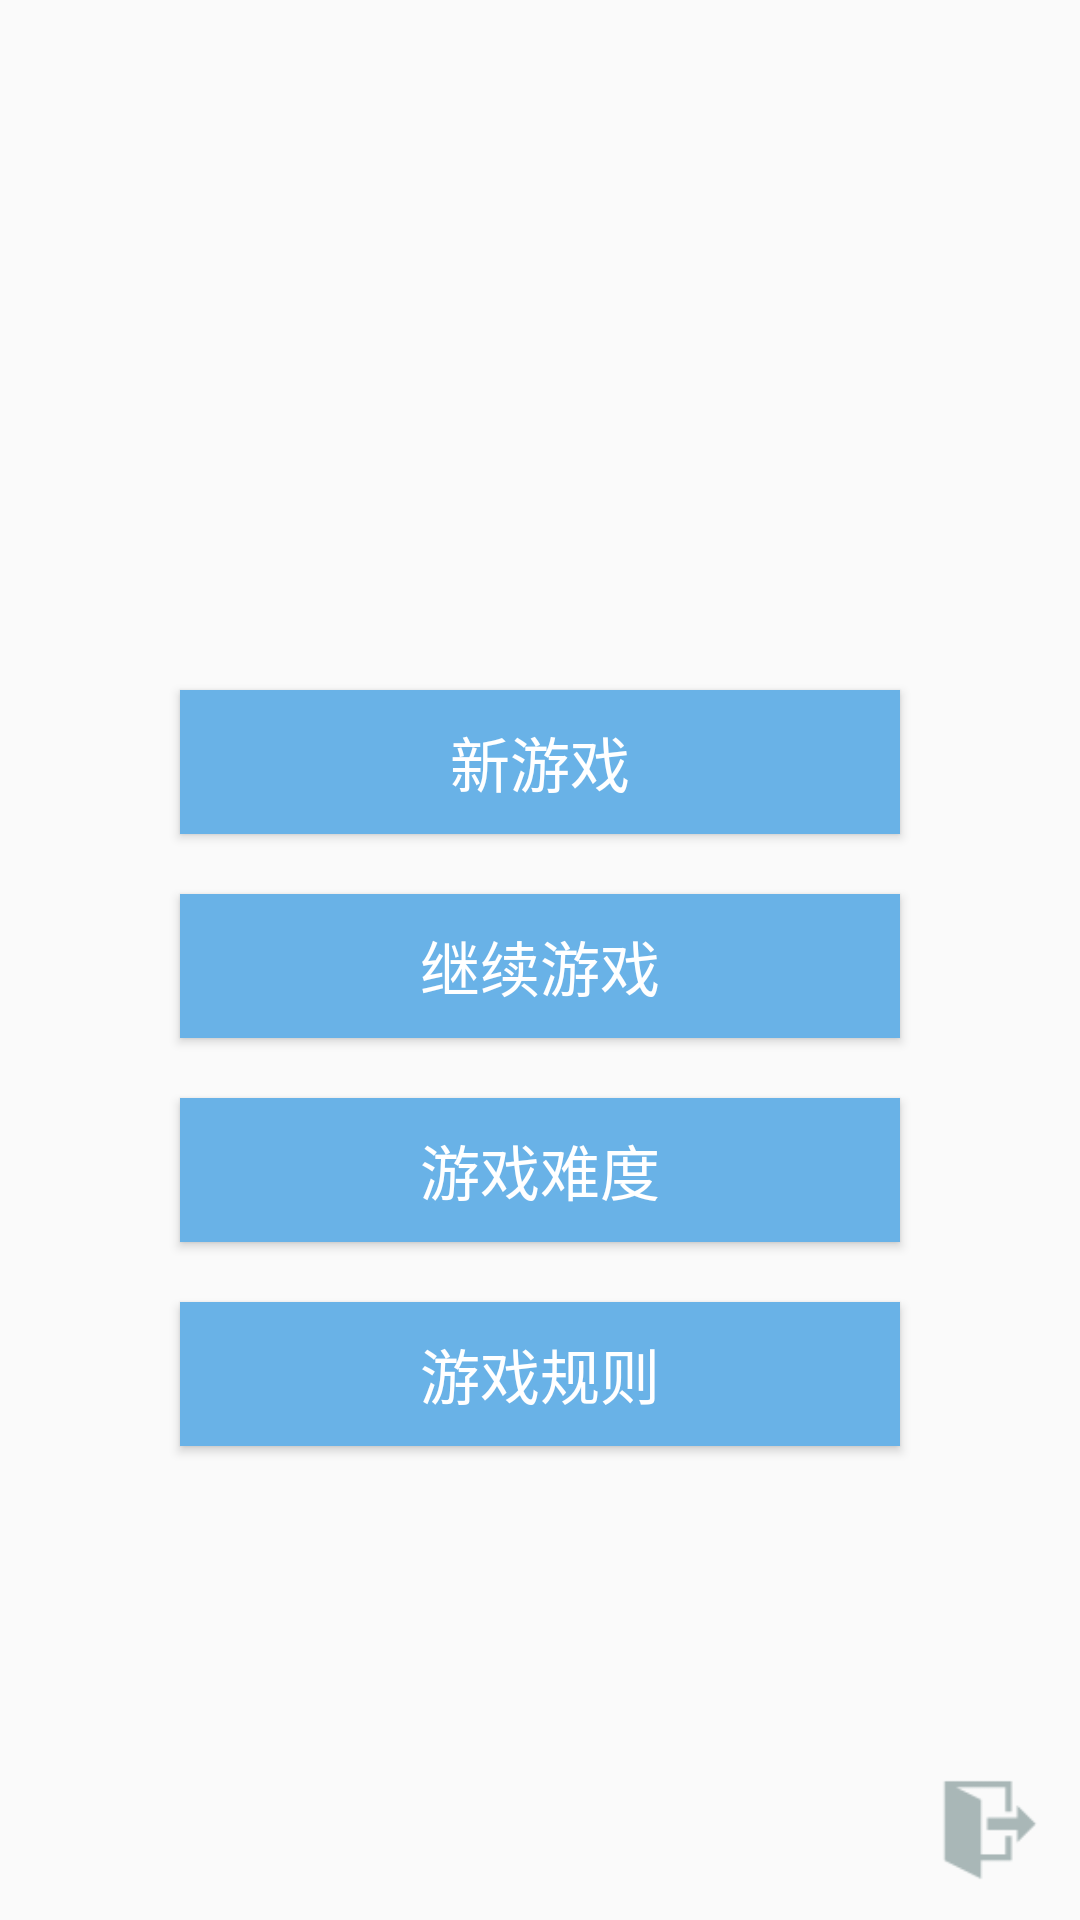

Point at icon controls on the screen. Image size 1080*1920, points as (x=x, y=y).
exit: (x=990, y=1830)
